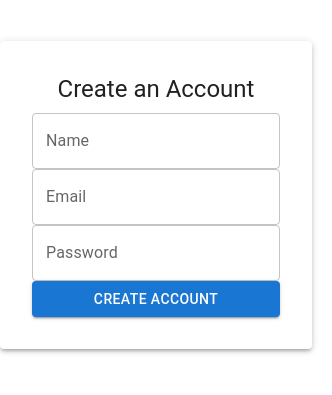
Register tests › shows error message when register fails
Type "John" into the field labelled "Name" at (156, 141), box [32,113,280,169]
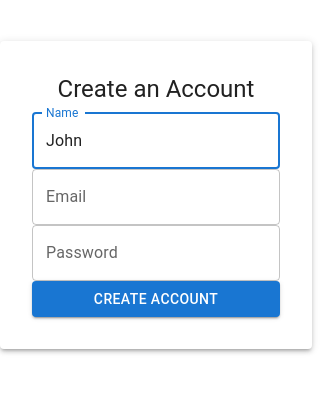
Type "a@b.com" into the field labelled "Email" at (156, 197), box [32,169,280,225]
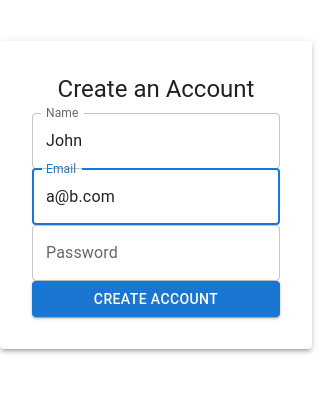
Type "password123" into the password field labelled "Password" at (156, 253), box [32,225,280,281]
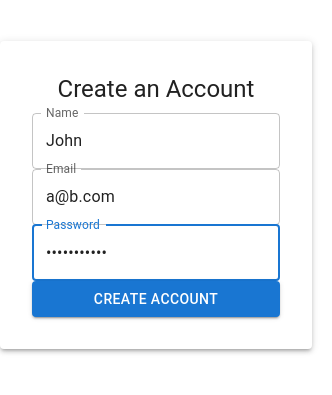
Click the button "Create account" at (156, 299), box [32,281,280,318]
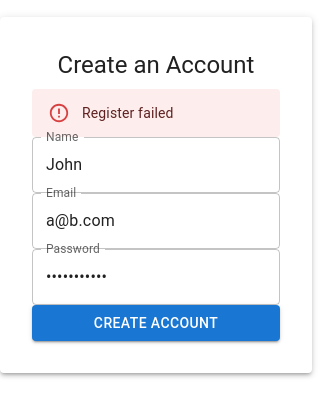
Expected: the text "Register failed" is shown, [82,105,174,121]
